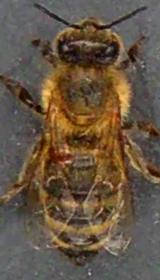varroa_mite: (42, 136, 76, 172)
